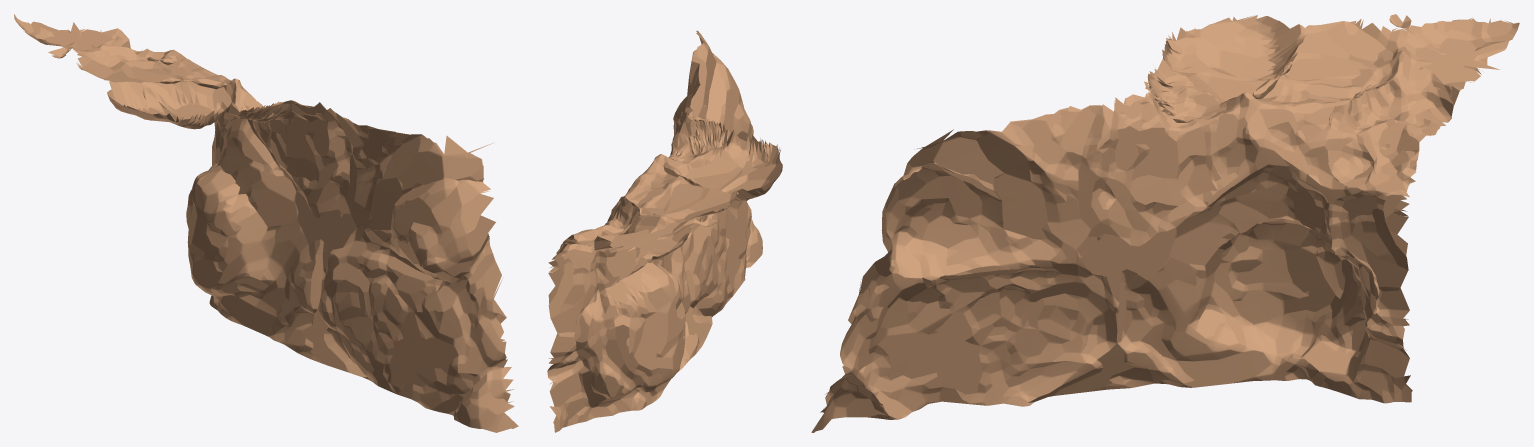
Rendered from SandstoneBig_Mesh_40_007LODs.fbx.
The picture shows the model from 3 angles, left to right: view 1: azimuth 30°, elevation 25°; view 2: azimuth 150°, elevation 25°; view 3: azimuth 270°, elevation 25°; orthographic projection. The views are drawn at different scales.
Visible parts, largest first — view 1: Mesh_40.007_LOD0; view 2: Mesh_40.007_LOD0; view 3: Mesh_40.007_LOD0.
Boxes of the visible parts, x1=… form: Mesh_40.007_LOD0: x1=14, y1=14, x2=518, y2=432; Mesh_40.007_LOD0: x1=547, y1=30, x2=782, y2=432; Mesh_40.007_LOD0: x1=811, y1=14, x2=1519, y2=432.
Size of what is drawn, in the model's own units: 6873 by 6944 by 14657.
